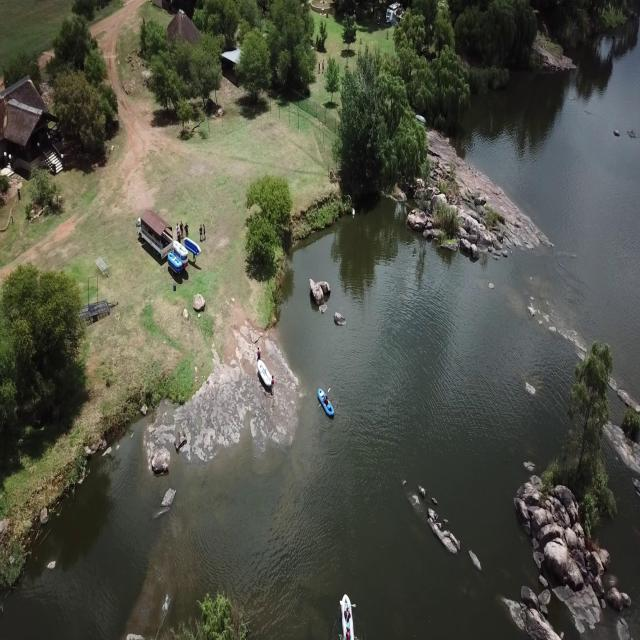kayak: (335, 593, 359, 640), (318, 387, 337, 423)
